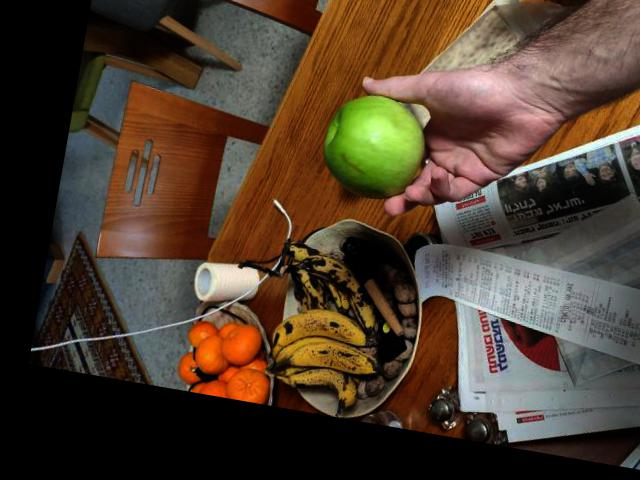apple: (318, 89, 438, 209)
